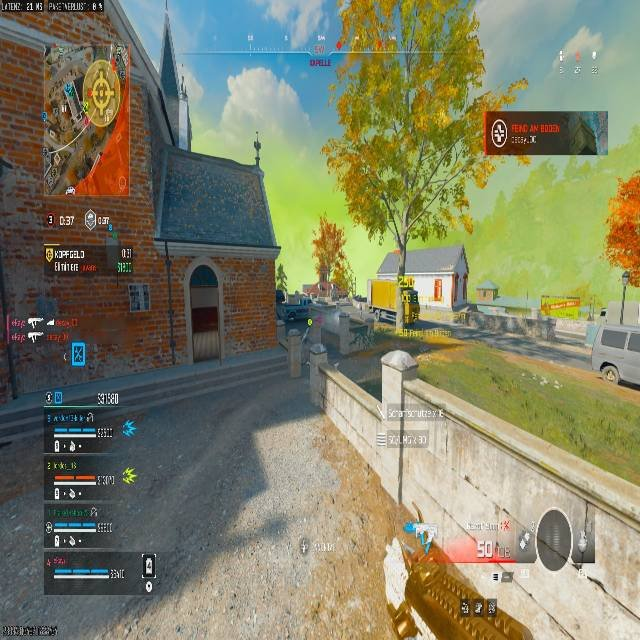player: (276, 287, 326, 383), (400, 277, 421, 329)
